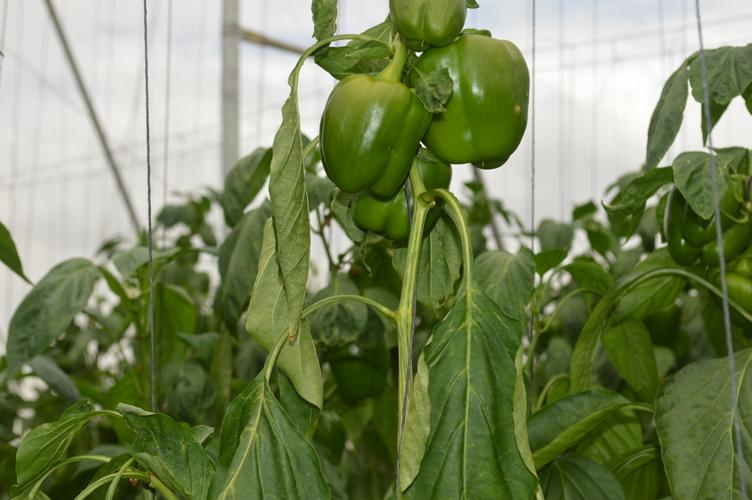BellPepper: (410, 38, 529, 169), (321, 73, 426, 196), (348, 155, 451, 241), (656, 177, 745, 262), (334, 334, 388, 403), (389, 4, 460, 45)
